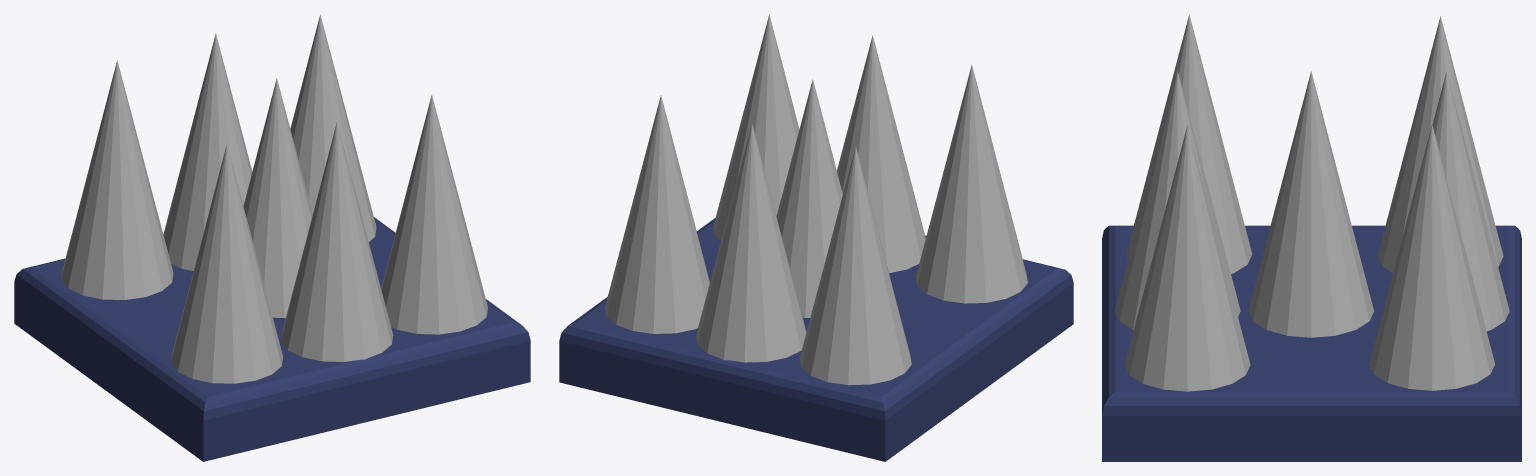
File: spikes.fbx
3 views of the same model, side by side, from view 1: azimuth 30°, elevation 25°; view 2: azimuth 150°, elevation 25°; view 3: azimuth 270°, elevation 25° (orthographic). The views are drawn at different scales.
Visible parts, largest first — view 1: Cube.016; view 2: Cube.016; view 3: Cube.016.
Boxes of the visible parts, x1,y1,x2,y2 form: Cube.016: (14,14,530,461); Cube.016: (559,14,1073,461); Cube.016: (1102,14,1521,461).
Bounding box in the file's own units: 1.75 × 1.4 × 1.75.
